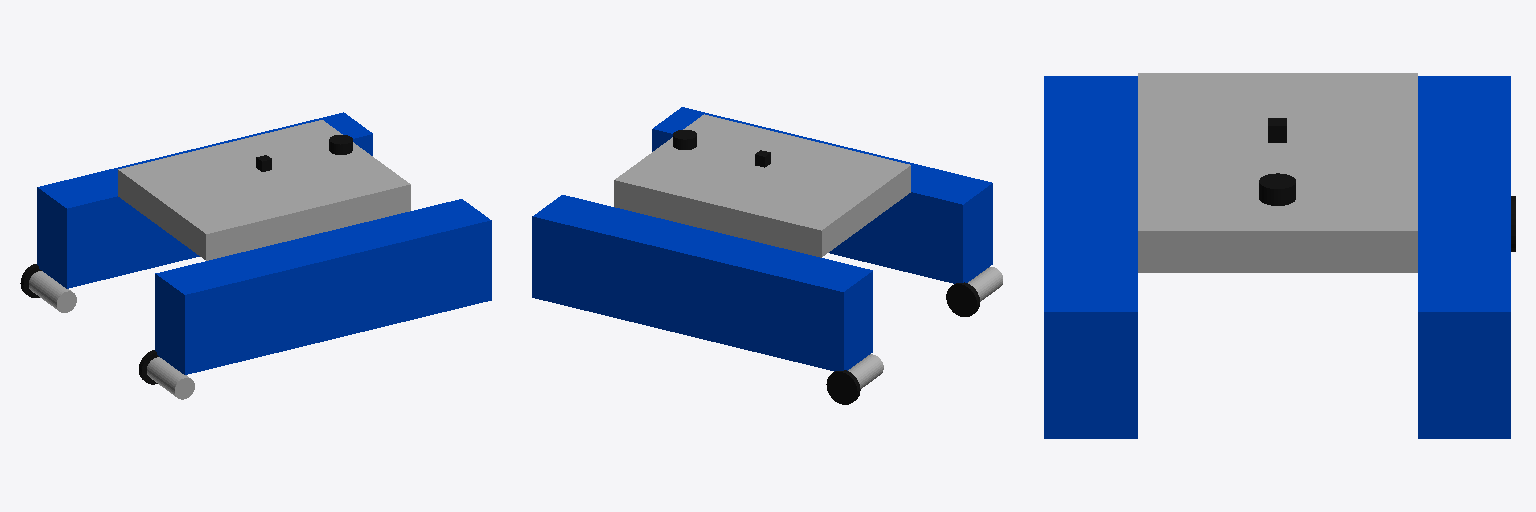
URDF robot description (microfred):
<?xml version="1.0"?>
<robot name="microfred">
  <!-- Define materials -->
  <material name="blue">
    <color rgba="0 0.3 0.8 1"/>
  </material>
  <material name="gray">
    <color rgba="0.7 0.7 0.7 1"/>
  </material>
  <material name="black">
    <color rgba="0.1 0.1 0.1 1"/>
  </material>

  <!-- Base Link (center platform) -->
  <link name="base_link">
    <visual>
      <geometry>
        <box size="0.4 0.3 0.05"/> <!-- Length, Width, Height -->
      </geometry>
      <material name="gray"/>
      <origin xyz="0 0 0.1"/>
    </visual>
    <collision>
      <geometry>
        <box size="0.4 0.3 0.05"/>
      </geometry>
      <origin xyz="0 0 0.1"/>
    </collision>
  </link>

  <!-- Left Hull -->
  <link name="left_hull">
    <visual>
      <geometry>
        <box size="0.6 0.1 0.15"/> <!-- Length, Width, Height -->
      </geometry>
      <material name="blue"/>
    </visual>
    <collision>
      <geometry>
        <box size="0.6 0.1 0.15"/>
      </geometry>
    </collision>
  </link>

  <!-- Right Hull -->
  <link name="right_hull">
    <visual>
      <geometry>
        <box size="0.6 0.1 0.15"/> <!-- Length, Width, Height -->
      </geometry>
      <material name="blue"/>
    </visual>
    <collision>
      <geometry>
        <box size="0.6 0.1 0.15"/>
      </geometry>
    </collision>
  </link>

  <!-- Left Propeller Housing -->
  <link name="left_prop_housing">
    <visual>
      <geometry>
        <cylinder length="0.1" radius="0.02"/>
      </geometry>
      <material name="gray"/>
    </visual>
  </link>

  <!-- Right Propeller Housing -->
  <link name="right_prop_housing">
    <visual>
      <geometry>
        <cylinder length="0.1" radius="0.02"/>
      </geometry>
      <material name="gray"/>
    </visual>
  </link>

  <!-- Left Propeller -->
  <link name="left_propeller">
    <visual>
      <geometry>
        <cylinder length="0.01" radius="0.03"/>
      </geometry>
      <material name="black"/>
    </visual>
  </link>

  <!-- Right Propeller -->
  <link name="right_propeller">
    <visual>
      <geometry>
        <cylinder length="0.01" radius="0.03"/>
      </geometry>
      <material name="black"/>
    </visual>
  </link>

  <!-- IMU Link -->
  <link name="imu_link">
    <visual>
      <geometry>
        <box size="0.02 0.02 0.02"/>
      </geometry>
      <material name="black"/>
    </visual>
  </link>

  <!-- GPS Link -->
  <link name="gps_link">
    <visual>
      <geometry>
        <cylinder length="0.02" radius="0.02"/>
      </geometry>
      <material name="black"/>
    </visual>
  </link>

  <!-- JOINTS -->
  <!-- Left Hull Joint -->
  <joint name="left_hull_joint" type="fixed">
    <parent link="base_link"/>
    <child link="left_hull"/>
    <origin xyz="0 0.2 0"/>
  </joint>

  <!-- Right Hull Joint -->
  <joint name="right_hull_joint" type="fixed">
    <parent link="base_link"/>
    <child link="right_hull"/>
    <origin xyz="0 -0.2 0"/>
  </joint>

  <!-- Left Propeller Housing Joint -->
  <joint name="left_prop_housing_joint" type="fixed">
    <parent link="left_hull"/>
    <child link="left_prop_housing"/>
    <origin xyz="-0.3 0 -0.1" rpy="1.5708 0 0"/>
  </joint>

  <!-- Right Propeller Housing Joint -->
  <joint name="right_prop_housing_joint" type="fixed">
    <parent link="right_hull"/>
    <child link="right_prop_housing"/>
    <origin xyz="-0.3 0 -0.1" rpy="1.5708 0 0"/>
  </joint>

  <!-- Left Propeller Joint -->
  <joint name="left_propeller_joint" type="continuous">
    <parent link="left_prop_housing"/>
    <child link="left_propeller"/>
    <origin xyz="0 0 -0.05" rpy="0 0 0"/>
    <axis xyz="0 0 1"/>
  </joint>

  <!-- Right Propeller Joint -->
  <joint name="right_propeller_joint" type="continuous">
    <parent link="right_prop_housing"/>
    <child link="right_propeller"/>
    <origin xyz="0 0 -0.05" rpy="0 0 0"/>
    <axis xyz="0 0 1"/>
  </joint>

  <!-- IMU Joint -->
  <joint name="imu_joint" type="fixed">
    <parent link="base_link"/>
    <child link="imu_link"/>
    <origin xyz="0 0 0.15"/>
  </joint>

  <!-- GPS Joint -->
  <joint name="gps_joint" type="fixed">
    <parent link="base_link"/>
    <child link="gps_link"/>
    <origin xyz="0.15 0 0.15"/>
  </joint>
</robot>

--- Render facts (derived) ---
The picture shows the robot from 3 angles, left to right: view 1: azimuth 30°, elevation 25°; view 2: azimuth 150°, elevation 25°; view 3: azimuth 270°, elevation 25°; orthographic projection.
Robot: microfred — 9 links, 8 joints (2 continuous, 6 fixed); root link base_link; default pose: all joints at 0.
Links seen in each view (by area): view 1: right_hull, base_link, left_hull, right_prop_housing, left_prop_housing; view 2: left_hull, base_link, right_hull, right_propeller, left_propeller, left_prop_housing, right_prop_housing; view 3: base_link, right_hull, left_hull, gps_link.
Boxes of the visible links, x1,y1,x2,y2 form: right_hull: (155, 199, 491, 374); base_link: (118, 120, 410, 260); left_hull: (37, 112, 372, 288); right_prop_housing: (147, 357, 194, 399); left_prop_housing: (29, 271, 76, 312); left_hull: (532, 195, 872, 371); base_link: (614, 114, 910, 257); right_hull: (652, 107, 992, 283); right_propeller: (946, 282, 979, 316); left_propeller: (826, 370, 860, 404); left_prop_housing: (848, 354, 883, 388); right_prop_housing: (968, 267, 1002, 301); base_link: (1138, 73, 1417, 272); right_hull: (1044, 76, 1137, 438); left_hull: (1418, 76, 1510, 438); gps_link: (1259, 173, 1295, 205).
Bounding box of the posed robot: 0.63 × 0.505 × 0.29 m (x, y, z).
Geometry: primitives only (box / cylinder / sphere), no mesh files.
